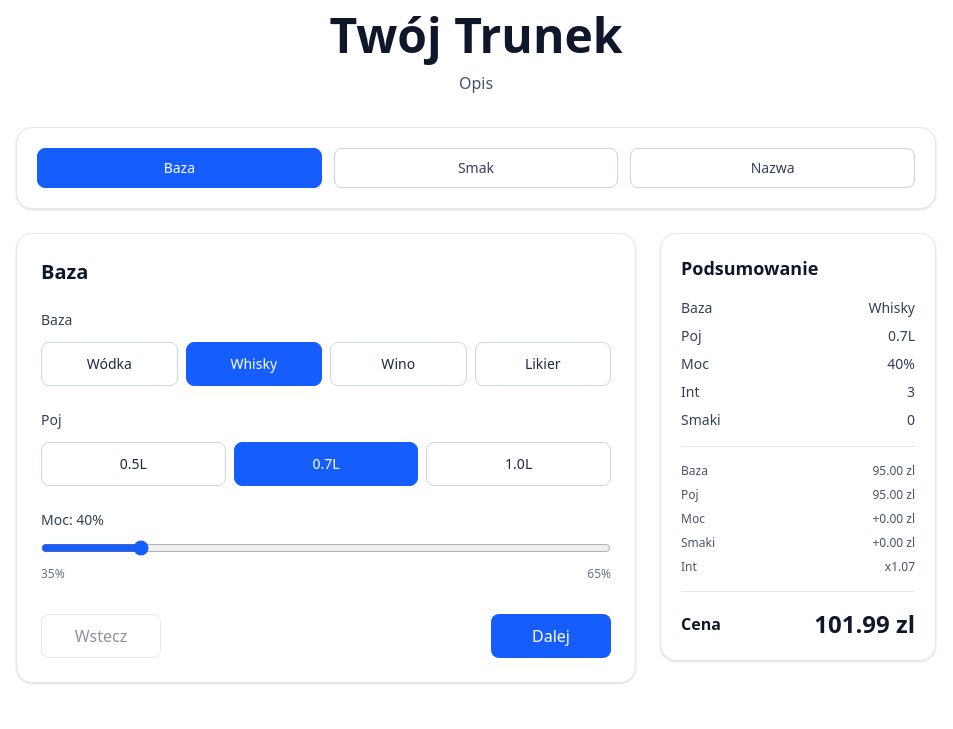
CustomOrderPage Unit Tests › powinien pozwalać na przejście przez kroki kreatora
The image size is (953, 729).
// Zmieniamy baze na wodke
Click the button "Wódka". click: (109, 364)
box: [41,342,178,386]
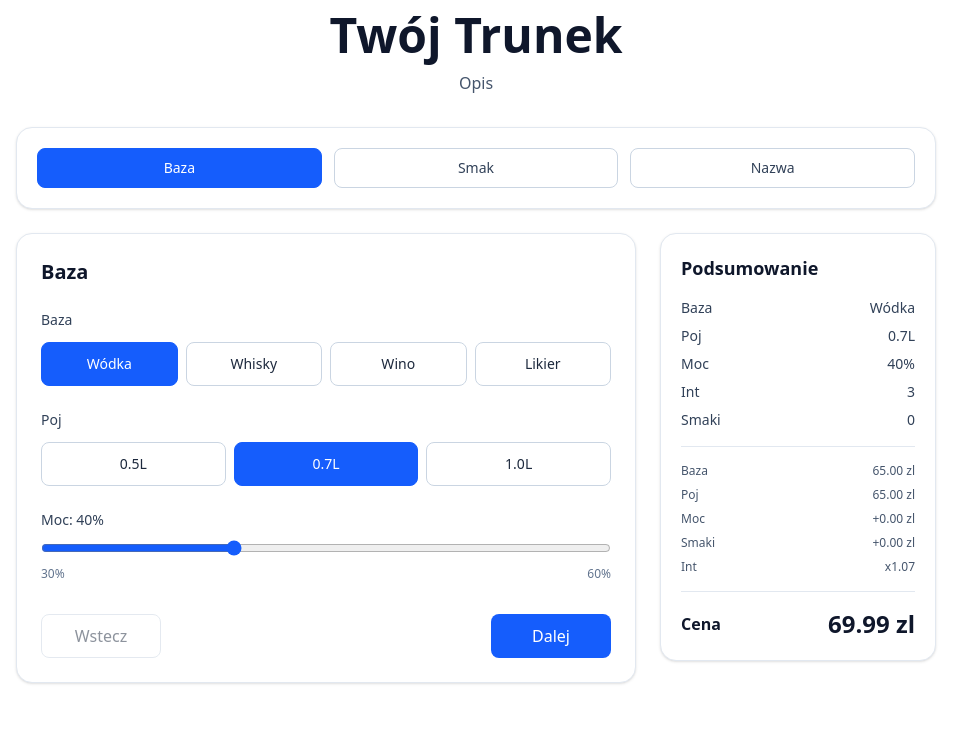
// Przejście do kroku 2
Click the button "Dalej". click: (551, 636)
box: [491,614,611,658]
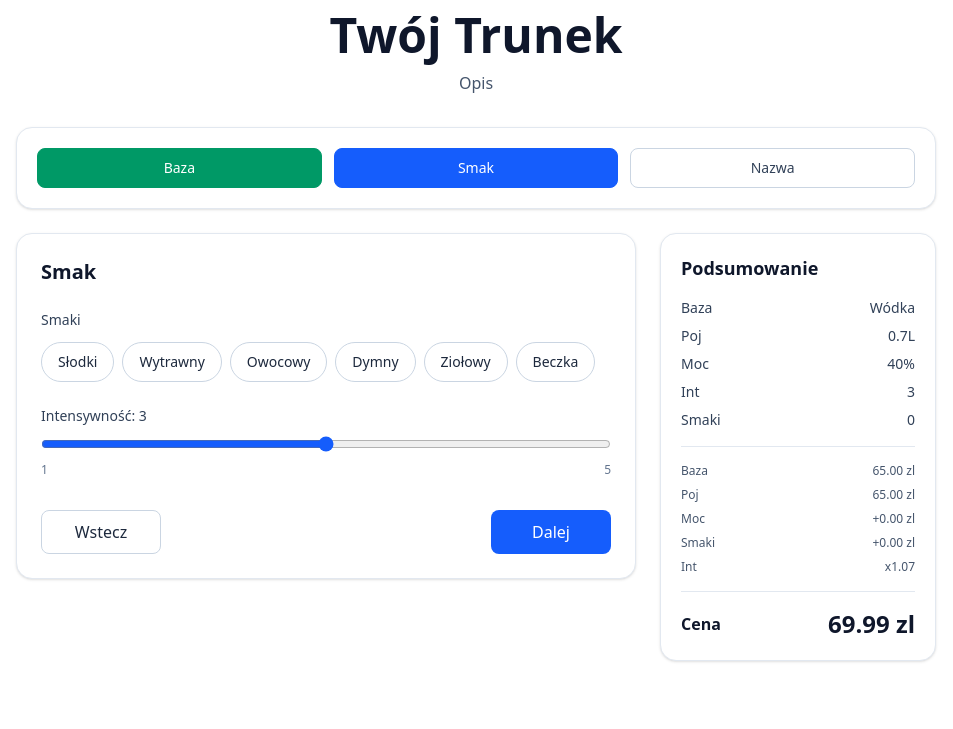
Now the button "Słodki" is shown
// Wybór smaku
Click the button "Słodki". click: (78, 362)
box: [41,342,114,382]
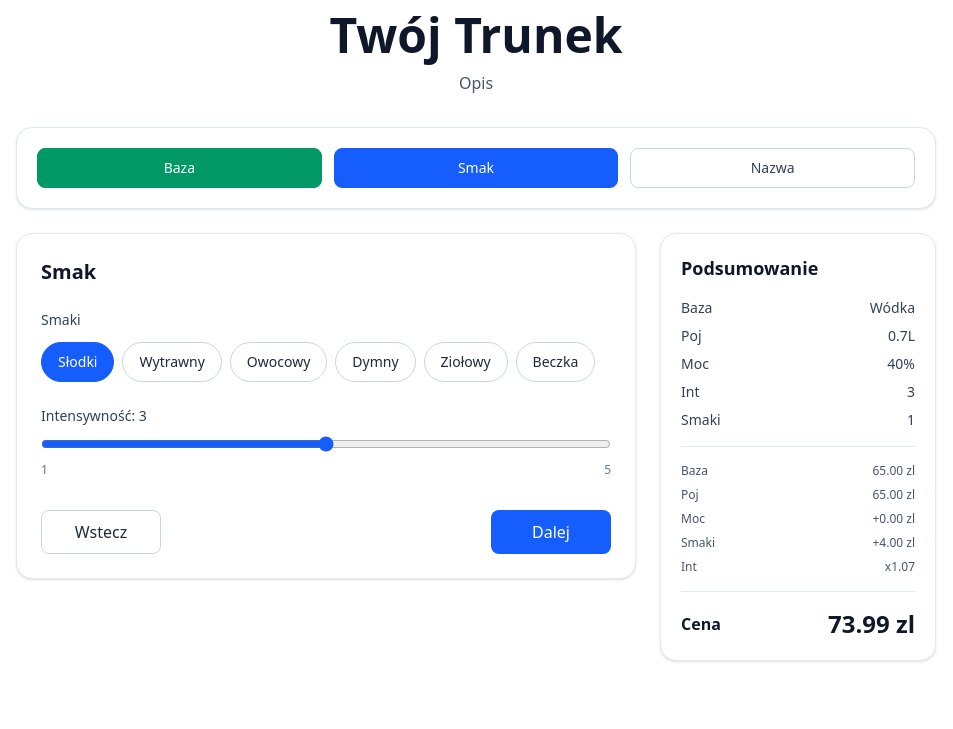
// Przejście do kroku 3
Click the button "Dalej". click: (551, 532)
box: [491,510,611,554]
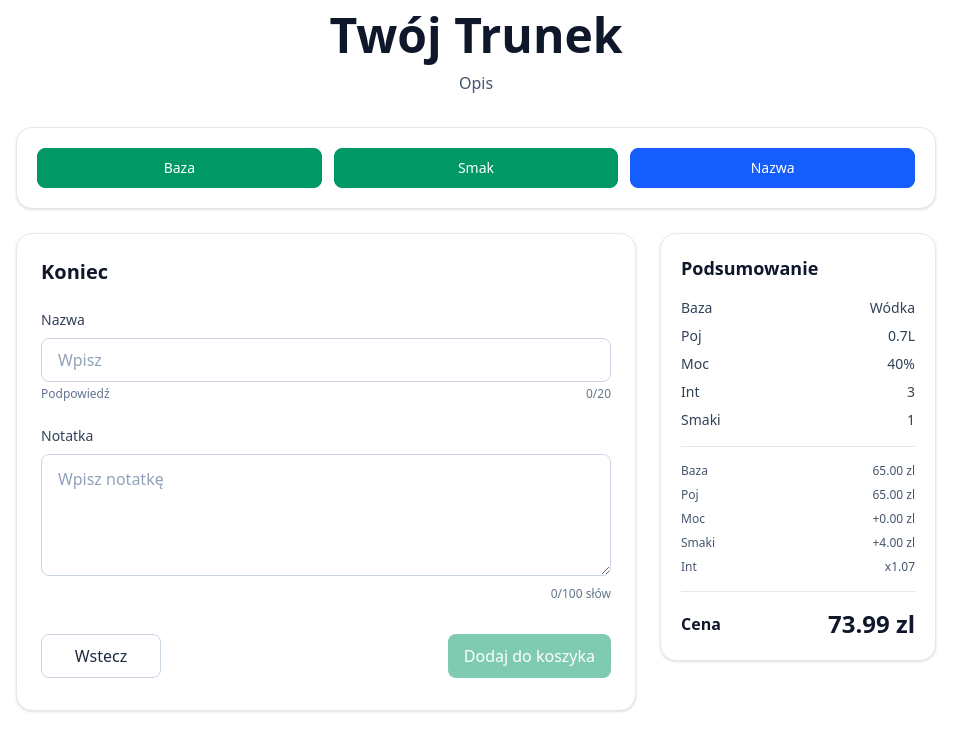
Now the field with placeholder "Wpisz" is shown, box [41,338,611,382]
